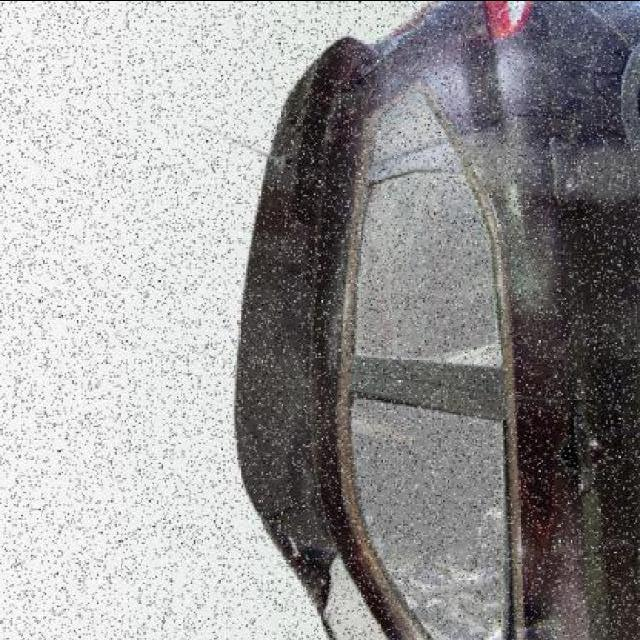roof-dent: (234, 177, 377, 629)
